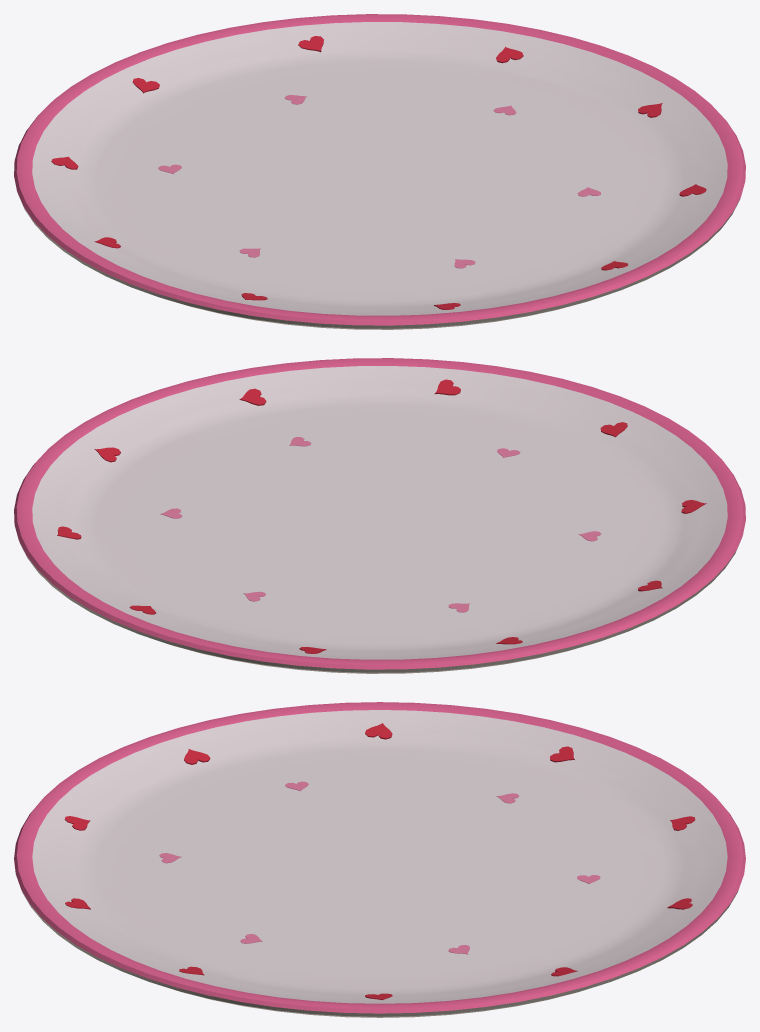
Rendered from plate_hearts.glb.
3 renders of one model, top to bottom at view 1: azimuth 30°, elevation 25°; view 2: azimuth 150°, elevation 25°; view 3: azimuth 270°, elevation 25°, orthographic.
Parts seen in each view (by area): view 1: body; view 2: body; view 3: body.
Part boxes in pixels (x1=…): body: x1=14, y1=14, x2=745, y2=329; body: x1=14, y1=358, x2=745, y2=673; body: x1=14, y1=702, x2=745, y2=1017.
Size of the model in its own units: 1.6 by 0.0939 by 1.6.
